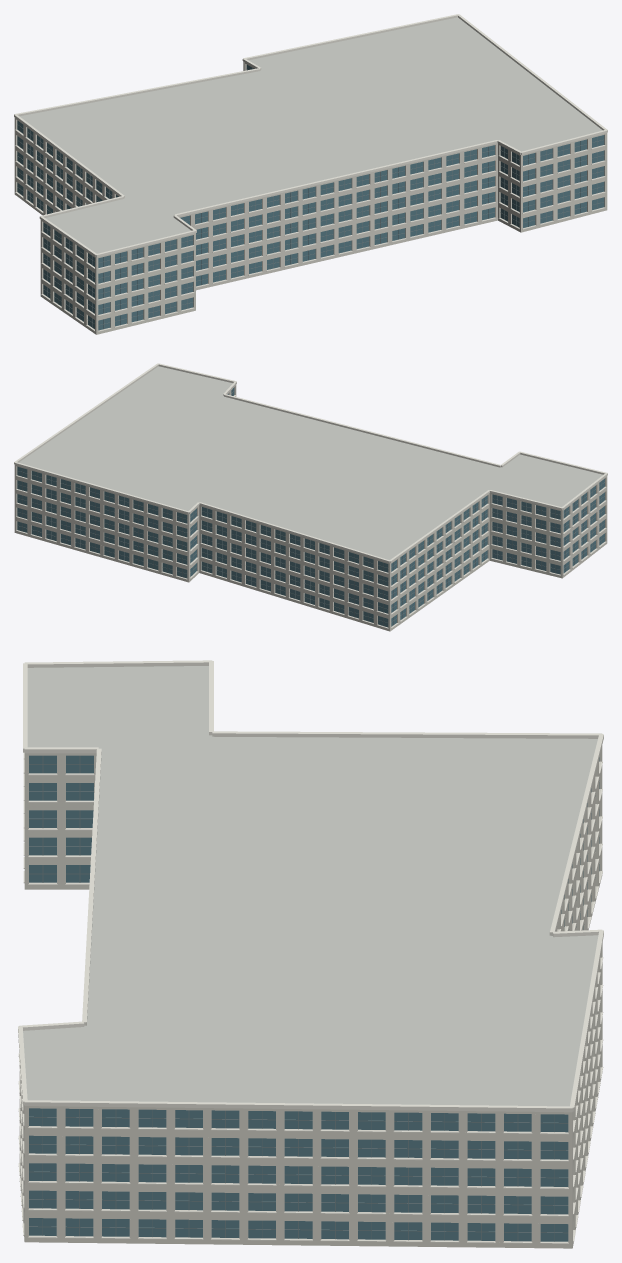
3 views of the same model, one above another, from view 1: azimuth 30°, elevation 25°; view 2: azimuth 150°, elevation 25°; view 3: azimuth 270°, elevation 25° (orthographic). The views are drawn at different scales.
Visible parts, largest first — view 1: roof, wall, glass, trim, metal; view 2: roof, wall, glass, trim, metal; view 3: roof, wall, glass, trim, metal.
Boxes of the visible parts, bbox=[...] form: roof: bbox=[20, 17, 602, 253]; wall: bbox=[14, 61, 607, 334]; glass: bbox=[17, 65, 604, 330]; trim: bbox=[14, 14, 607, 331]; metal: bbox=[17, 68, 604, 328]; roof: bbox=[19, 366, 602, 559]; wall: bbox=[14, 385, 607, 631]; glass: bbox=[17, 387, 604, 627]; trim: bbox=[14, 363, 607, 628]; metal: bbox=[17, 390, 604, 625]; roof: bbox=[23, 666, 598, 1106]; wall: bbox=[19, 745, 602, 1248]; glass: bbox=[29, 755, 599, 1241]; trim: bbox=[18, 660, 603, 1243]; metal: bbox=[29, 756, 599, 1241].
Size of the model in its own units: 111 by 16.34 by 61.63.
